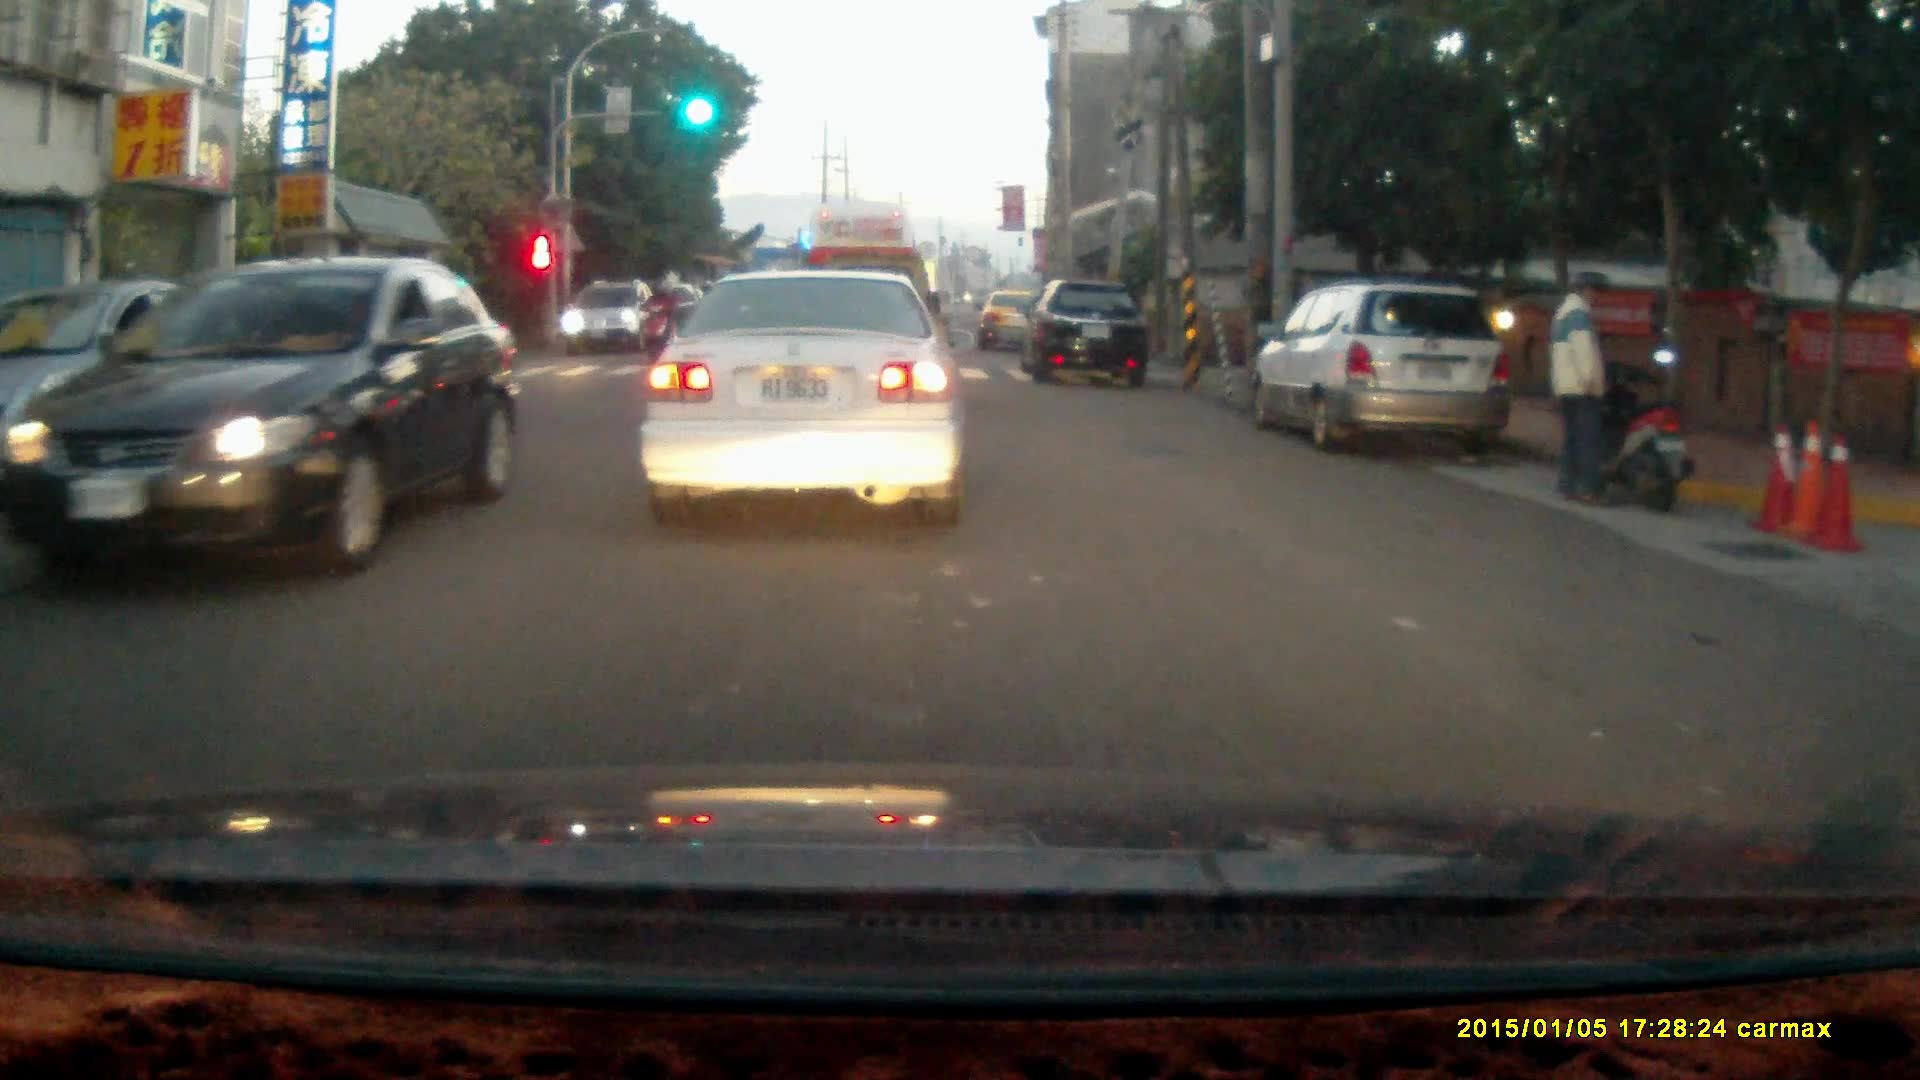pedestrian: (1543, 271, 1616, 512)
rider: (637, 276, 679, 365)
vehicle: (5, 257, 491, 582), (638, 273, 964, 529), (1265, 287, 1515, 464), (806, 204, 928, 372), (1024, 279, 1159, 389), (564, 281, 662, 354), (976, 286, 1070, 358)
